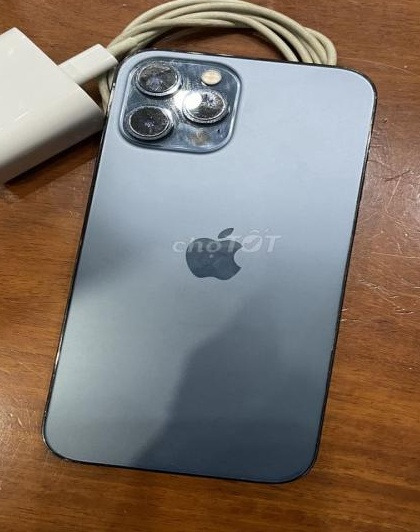scratch: (120, 41, 239, 161)
